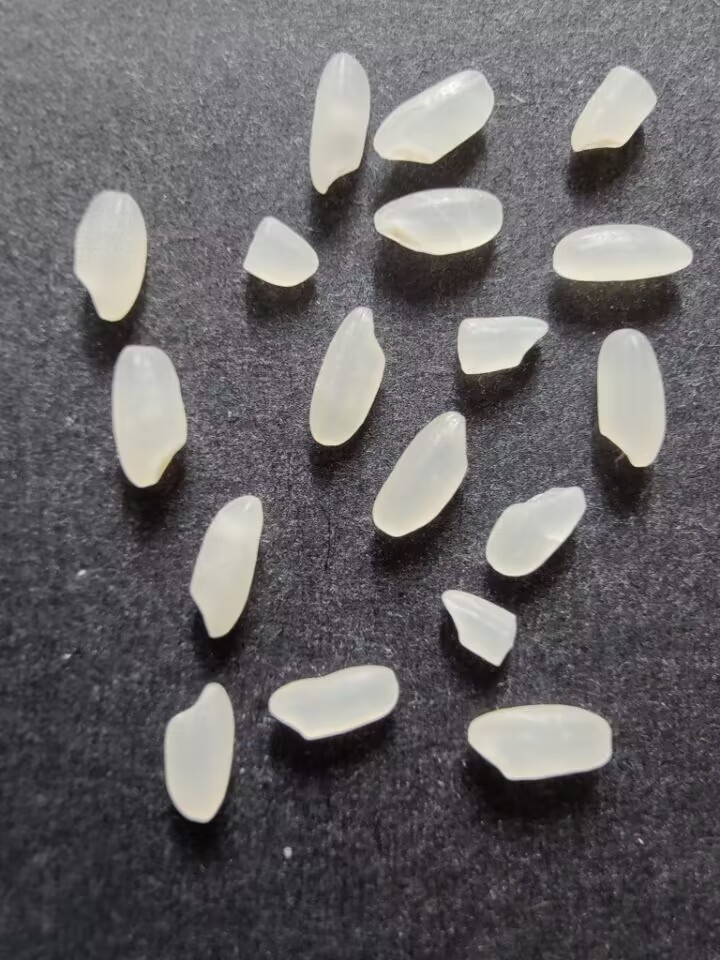broken: (566, 63, 664, 157), (436, 585, 521, 669), (239, 213, 324, 290), (455, 314, 552, 379)
rice: (370, 408, 472, 540), (370, 64, 496, 167), (461, 703, 615, 785), (185, 489, 267, 643), (109, 343, 193, 493), (159, 677, 239, 828), (306, 304, 388, 448), (262, 662, 402, 745), (69, 189, 150, 324), (593, 325, 666, 471), (482, 484, 588, 578), (369, 186, 509, 257), (306, 48, 372, 196), (548, 221, 697, 286)
